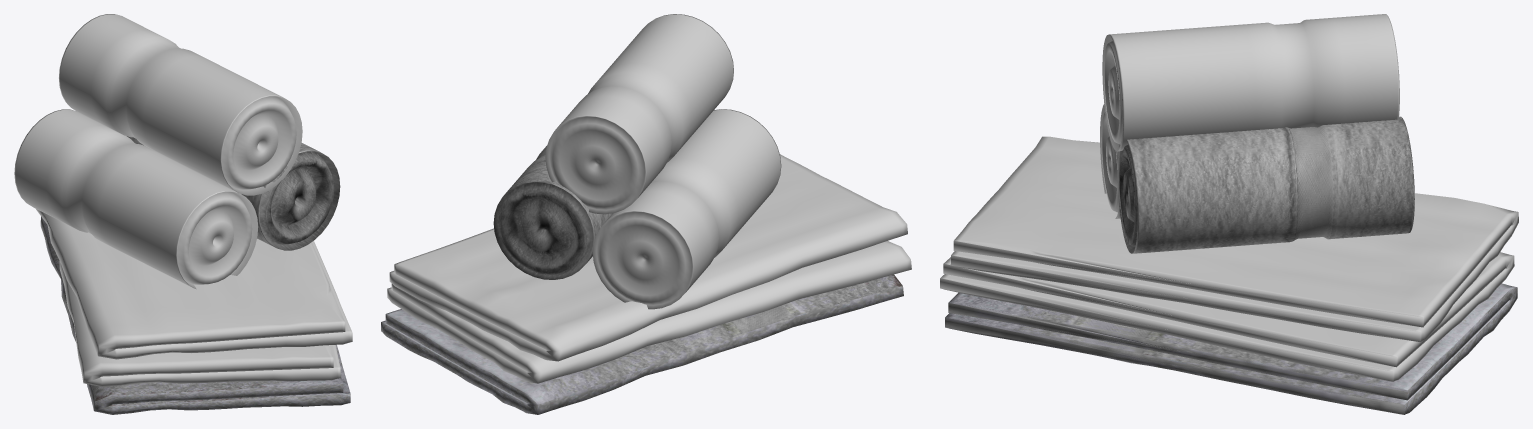
Rendered from towels.fbx.
The picture shows the model from 3 angles, left to right: view 1: azimuth 30°, elevation 25°; view 2: azimuth 150°, elevation 25°; view 3: azimuth 270°, elevation 25°; orthographic projection. The views are drawn at different scales.
Parts seen in each view (by area): view 1: Towel_3_Cylinder_003, Towel_square_3_Cylinder_012, Towel_2_Cylinder_002, Towel_square_2_Cylinder_011, Towel_square_Cylinder_008, Towel_1_Cylinder; view 2: Towel_square_3_Cylinder_012, Towel_3_Cylinder_003, Towel_2_Cylinder_002, Towel_square_Cylinder_008, Towel_square_2_Cylinder_011, Towel_1_Cylinder; view 3: Towel_square_3_Cylinder_012, Towel_1_Cylinder, Towel_3_Cylinder_003, Towel_square_Cylinder_008, Towel_square_2_Cylinder_011, Towel_2_Cylinder_002.
Part boxes in pixels (box(x1,y1,x2,y2)): Towel_3_Cylinder_003: box(59, 14, 302, 195); Towel_square_3_Cylinder_012: box(36, 209, 352, 359); Towel_2_Cylinder_002: box(14, 109, 258, 289); Towel_square_2_Cylinder_011: box(59, 261, 340, 386); Towel_square_Cylinder_008: box(40, 216, 350, 414); Towel_1_Cylinder: box(127, 136, 340, 250); Towel_square_3_Cylinder_012: box(389, 154, 907, 361); Towel_3_Cylinder_003: box(545, 14, 733, 214); Towel_2_Cylinder_002: box(592, 109, 781, 309); Towel_square_Cylinder_008: box(381, 274, 903, 414); Towel_square_2_Cylinder_011: box(387, 241, 911, 383); Towel_1_Cylinder: box(493, 146, 612, 279); Towel_square_3_Cylinder_012: box(950, 136, 1518, 341); Towel_1_Cylinder: box(1117, 116, 1414, 253); Towel_3_Cylinder_003: box(1102, 14, 1399, 151); Towel_square_Cylinder_008: box(945, 283, 1517, 414); Towel_square_2_Cylinder_011: box(940, 252, 1514, 381); Towel_2_Cylinder_002: box(1100, 104, 1120, 218).
Size of the model in its own units: 3.66 by 2.5 by 4.49.
